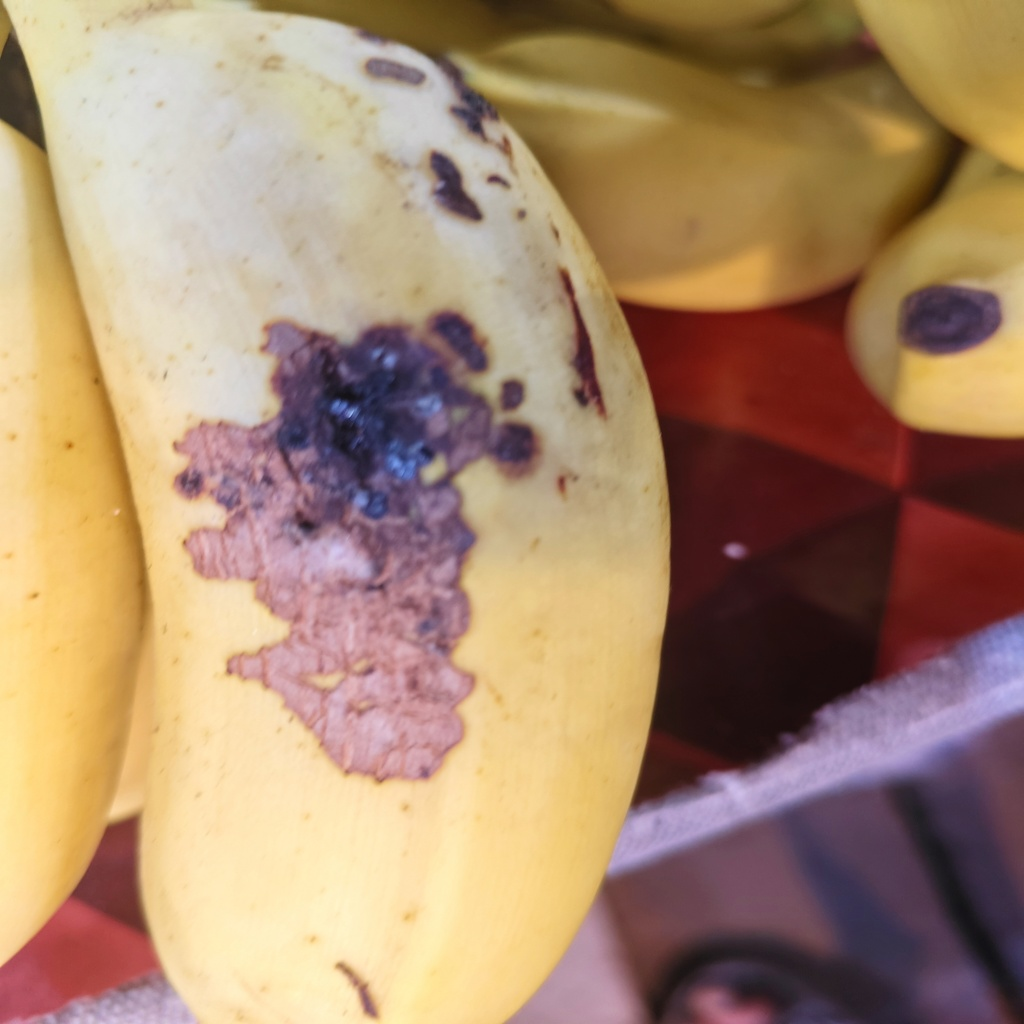unhealthy: (31, 16, 672, 1024)
